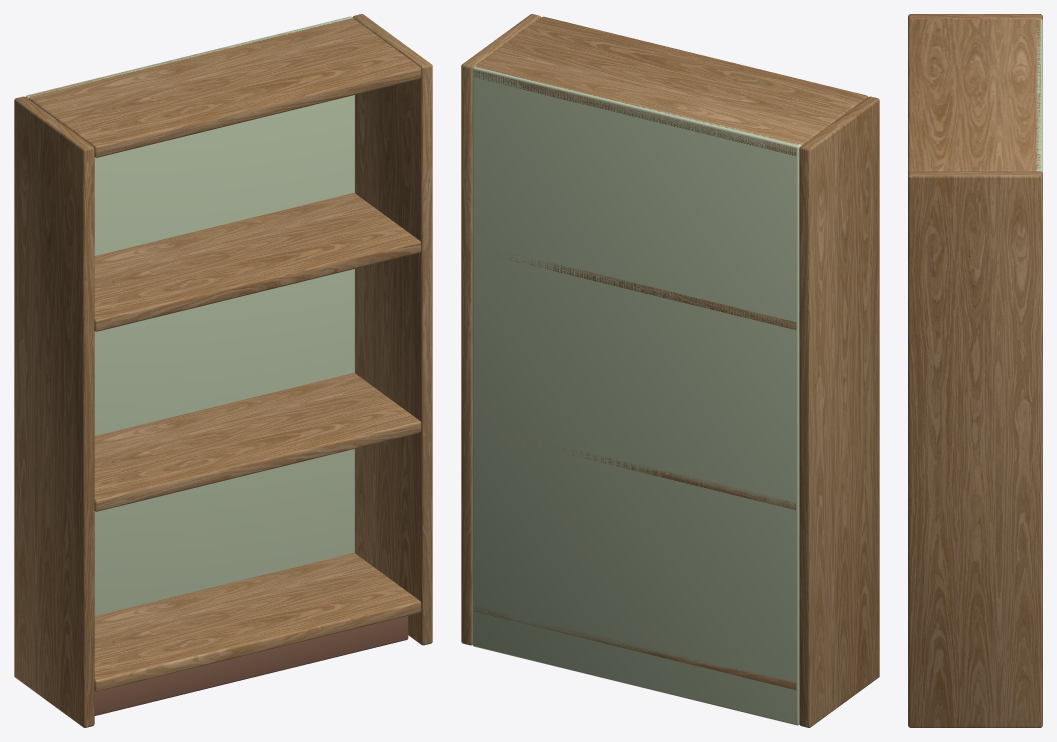
Rendered from display-bookcase.glb.
The picture shows the model from 3 angles, left to right: view 1: azimuth 30°, elevation 25°; view 2: azimuth 150°, elevation 25°; view 3: azimuth 270°, elevation 25°; orthographic projection. The views are drawn at different scales.
Visible parts, largest first — view 1: catalog_surface_RealismUV; view 2: catalog_surface_RealismUV; view 3: catalog_surface_RealismUV.
Boxes of the visible parts, x1,y1,x2,y2 form: catalog_surface_RealismUV: [14, 14, 432, 727]; catalog_surface_RealismUV: [461, 14, 879, 727]; catalog_surface_RealismUV: [908, 14, 1042, 727].
Size of the model in its own units: 1.2 by 1.9 by 0.42.
Materials: 3 (1 with a texture image).
